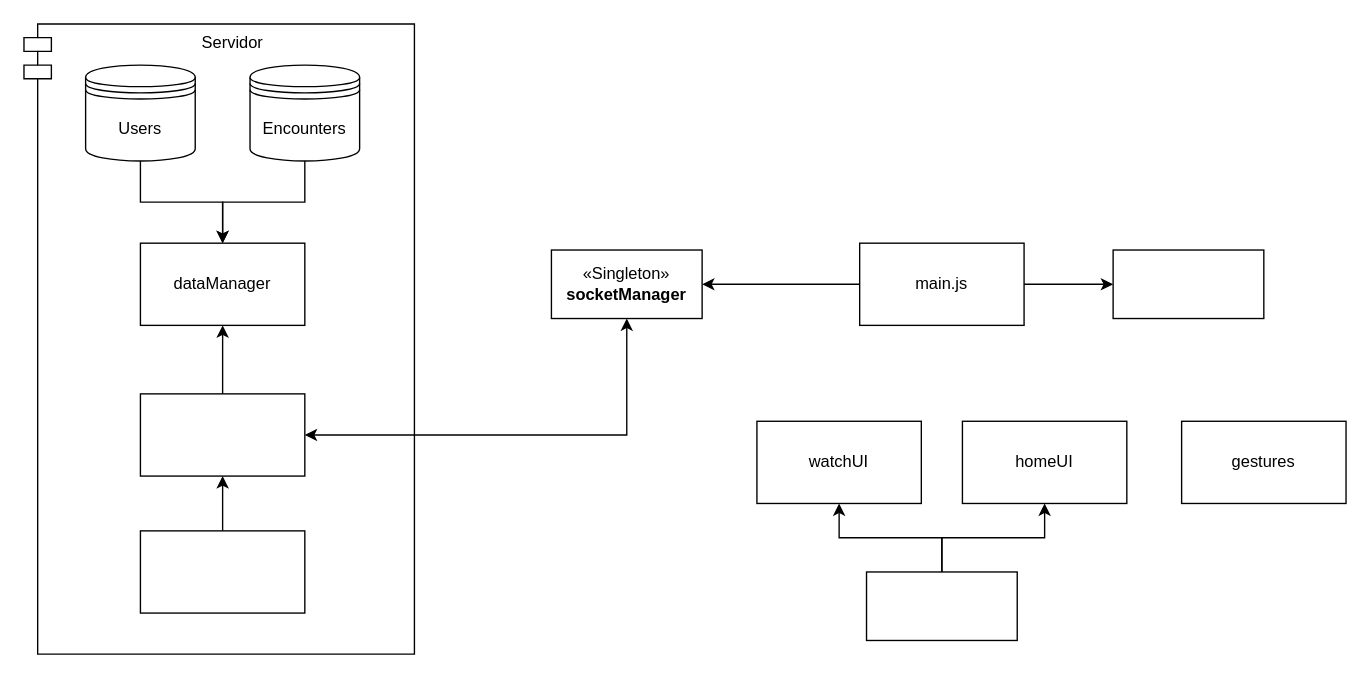
Image size: 1370x678. Some labels were removed from this diagram. Here are the shapes that lost their labels. From the top down, the centre of each, then its label:
At (1188,284): "«Singleton» RouterIU".
At (222,434): "socketEvents".
At (222,571): "index".
At (941,605): "«interface» BaseUI".
